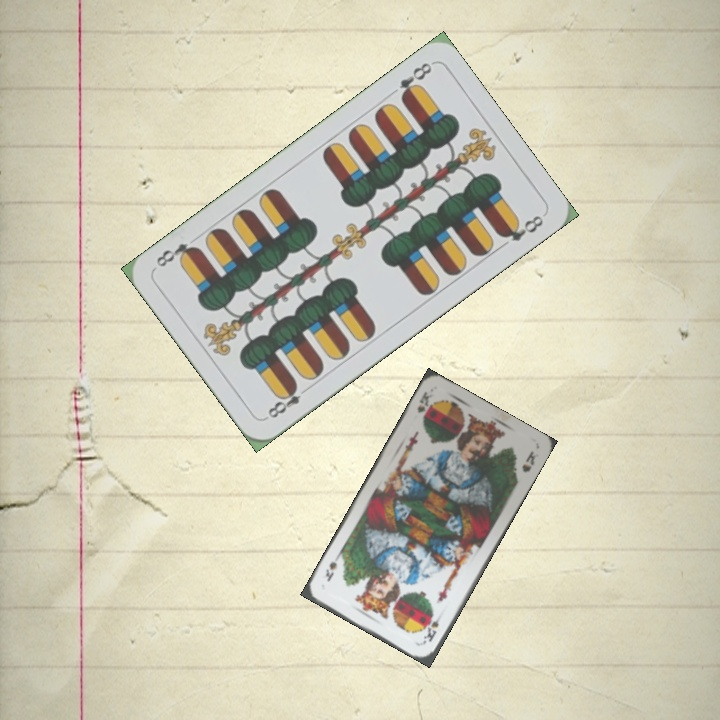E8: (261, 379, 313, 422), (395, 58, 435, 104)
SK: (419, 609, 446, 646), (413, 387, 435, 421)
